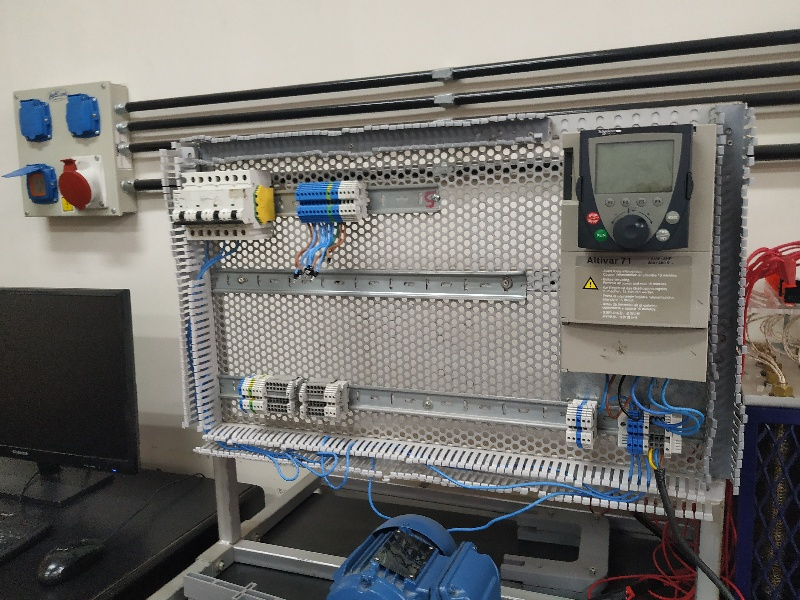Tablero 0: (166, 113, 724, 486)
